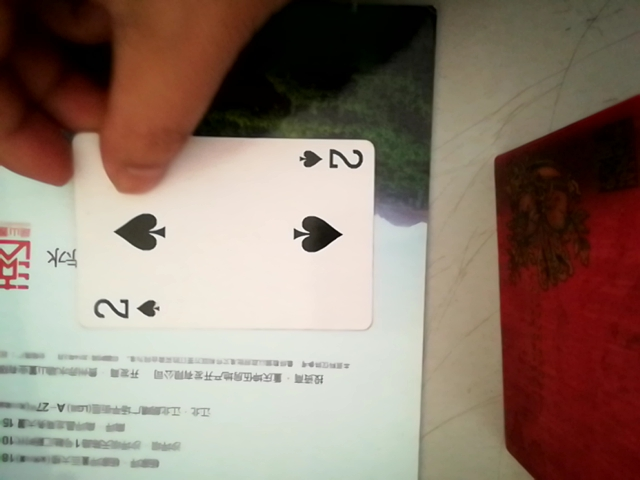ht 2: (53, 131, 395, 347)
